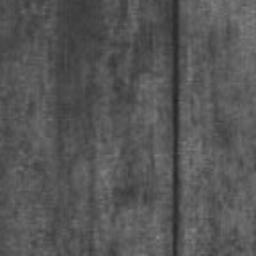Scratches: (172, 0, 179, 256)
